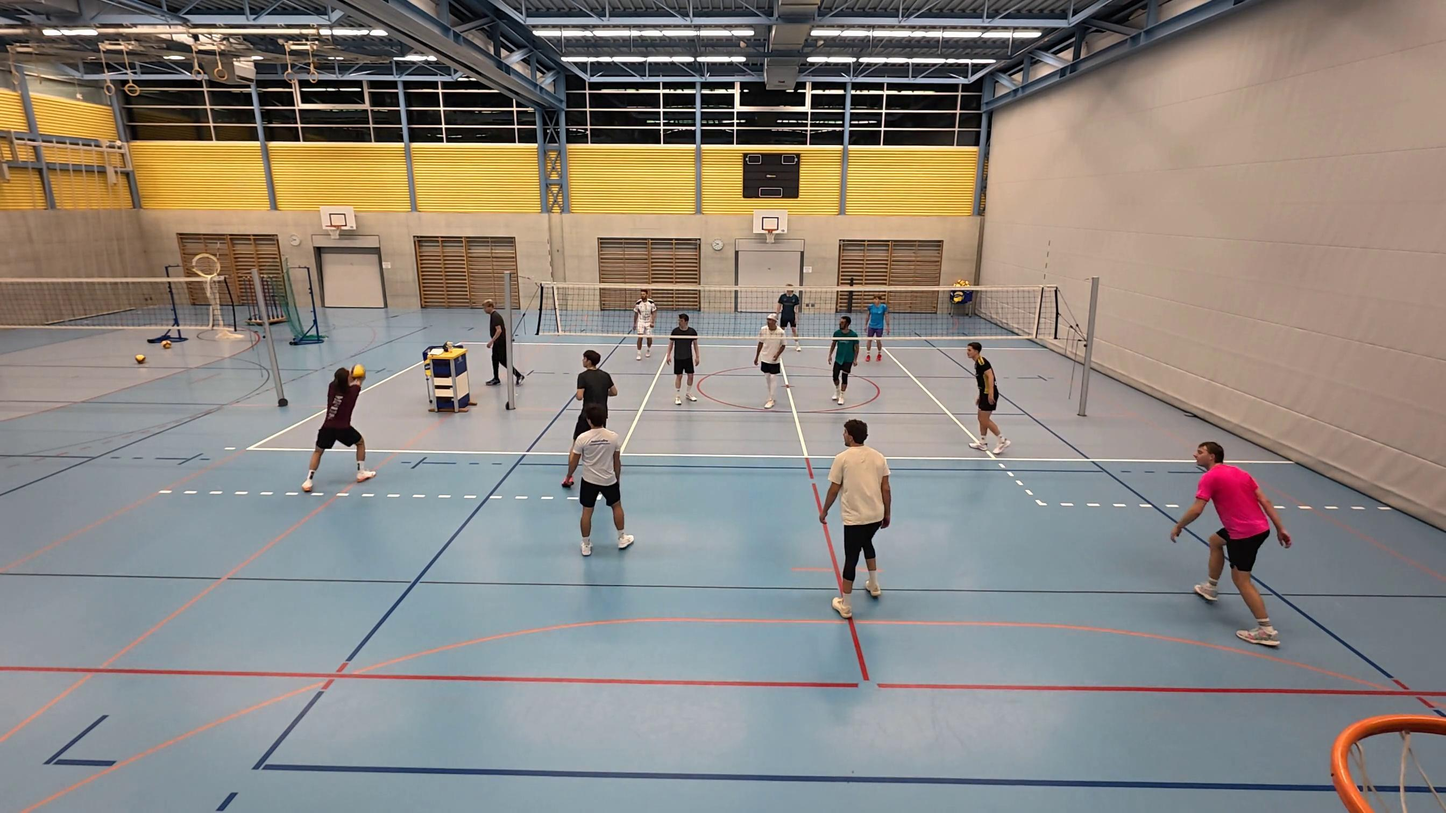Player: (1171, 440, 1291, 646), (819, 419, 891, 617), (563, 410, 634, 556), (965, 341, 1008, 454), (571, 348, 618, 436), (753, 316, 788, 410), (666, 311, 701, 404), (828, 315, 859, 407), (862, 293, 888, 361), (776, 282, 802, 348), (632, 290, 656, 360)
Set: (297, 364, 377, 495)
ball: (349, 366, 365, 381)
